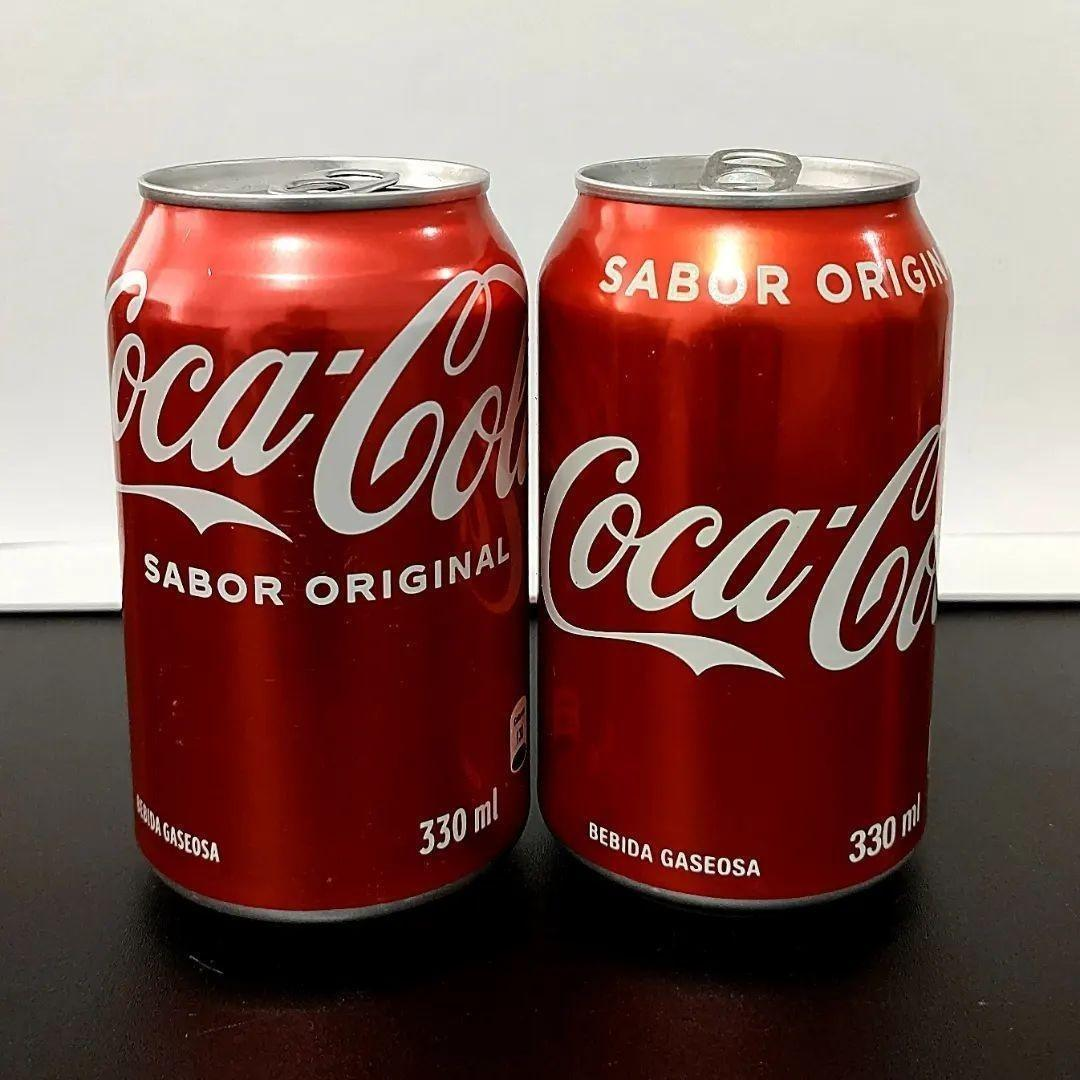tin can: (91, 141, 546, 939), (546, 126, 966, 937)
